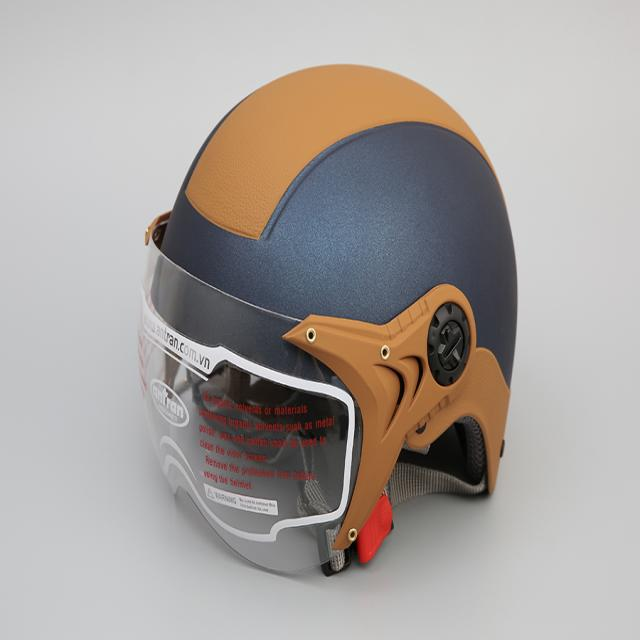Helmet: (134, 60, 520, 578)
